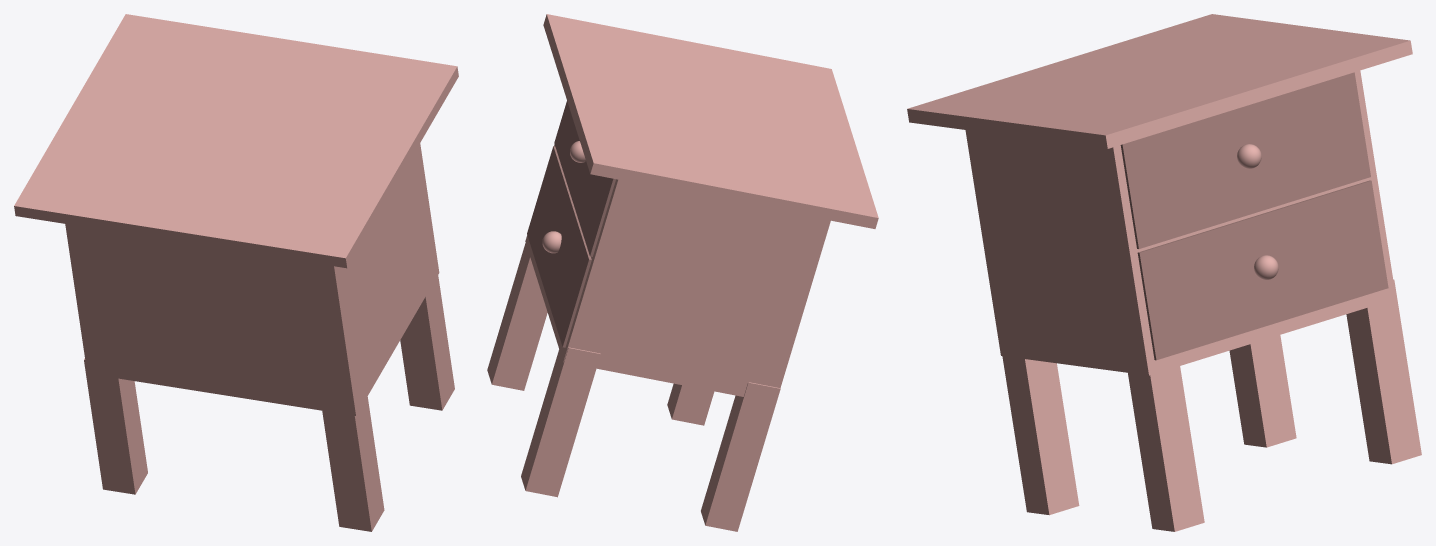
File: Dresser.fbx
3 renders of one model, left to right at view 1: azimuth 30°, elevation 25°; view 2: azimuth 150°, elevation 25°; view 3: azimuth 270°, elevation 25°, orthographic. The views are drawn at different scales.
Visible parts, largest first — view 1: NightStand; view 2: NightStand; view 3: NightStand.
Part boxes in pixels (x1,y1,x2,y2): NightStand: (14, 14, 458, 531); NightStand: (487, 14, 878, 531); NightStand: (907, 14, 1421, 531).
Bounding box in the file's own units: 9.42 × 8.78 × 9.2.
